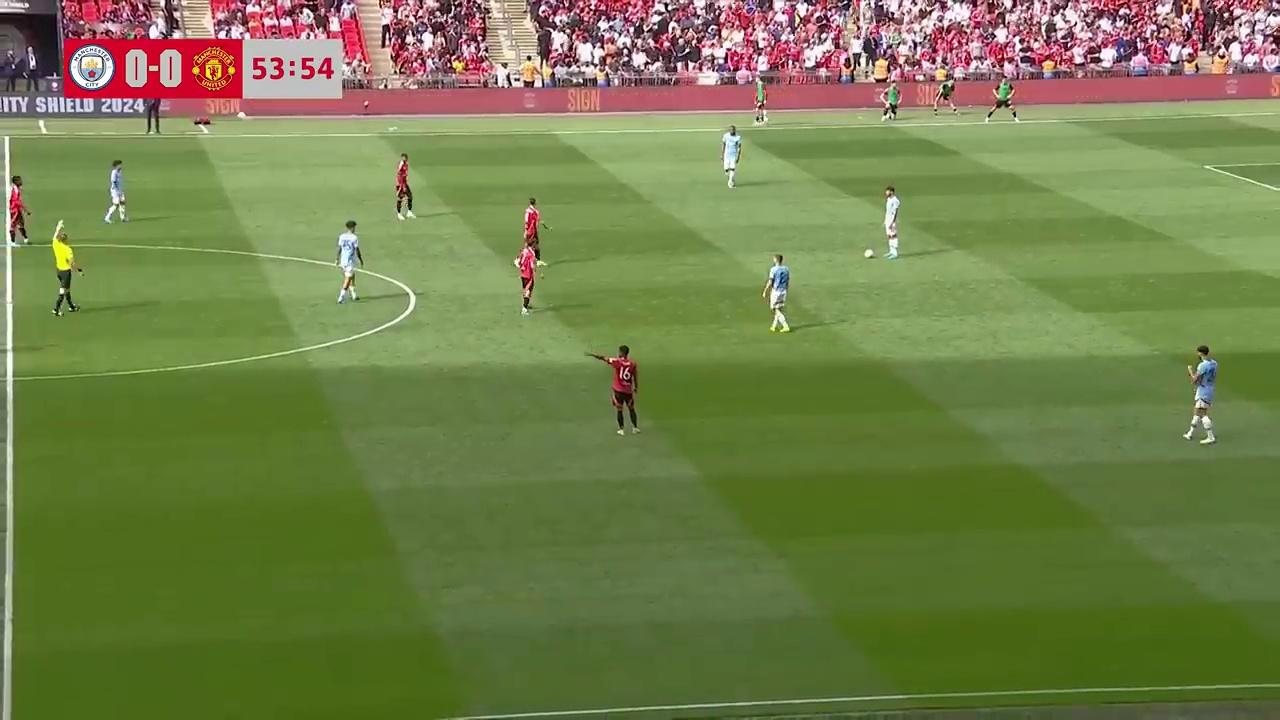ball: (863, 246, 875, 260)
player: (599, 344, 640, 436), (1182, 346, 1218, 443), (335, 220, 364, 304), (762, 253, 791, 333), (514, 242, 540, 315), (6, 176, 32, 248), (103, 159, 129, 224), (522, 197, 546, 257), (395, 153, 415, 220), (883, 185, 900, 258), (722, 127, 741, 188), (721, 125, 740, 175)
referee: (50, 225, 83, 317)
